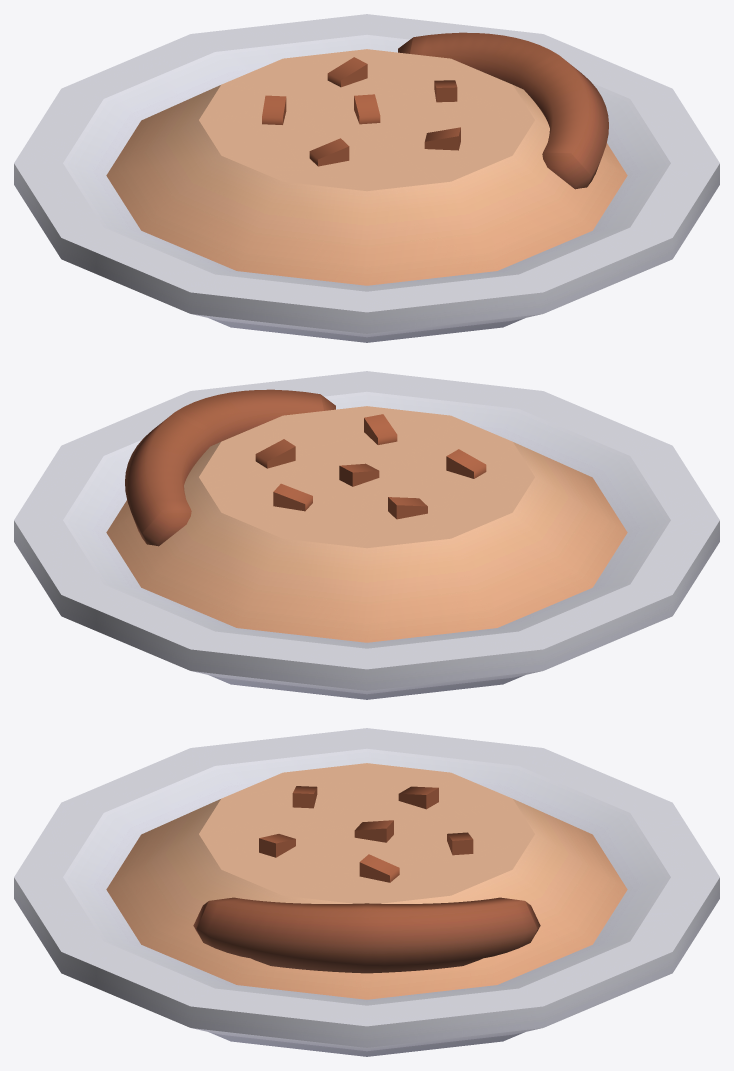
Rendered from plate-sauerkraut.glb.
The picture shows the model from 3 angles, top to bottom: view 1: azimuth 30°, elevation 25°; view 2: azimuth 150°, elevation 25°; view 3: azimuth 270°, elevation 25°; orthographic projection.
Parts seen in each view (by area): view 1: plate-sauerkraut; view 2: plate-sauerkraut; view 3: plate-sauerkraut.
Part boxes in pixels (box(x1,y1,x2,y2)): plate-sauerkraut: box(14, 14, 719, 342); plate-sauerkraut: box(14, 371, 719, 699); plate-sauerkraut: box(14, 728, 719, 1056).
Size of the model in its own units: 0.8918 by 0.1752 by 0.8918.
1 material, 1 textured.
